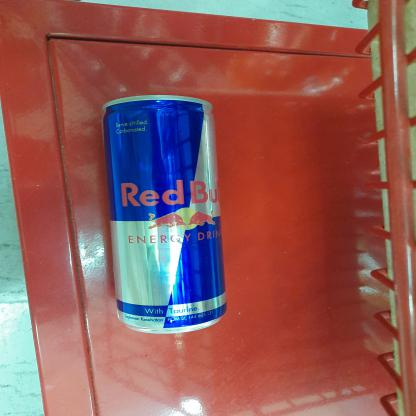can: (94, 91, 229, 334)
